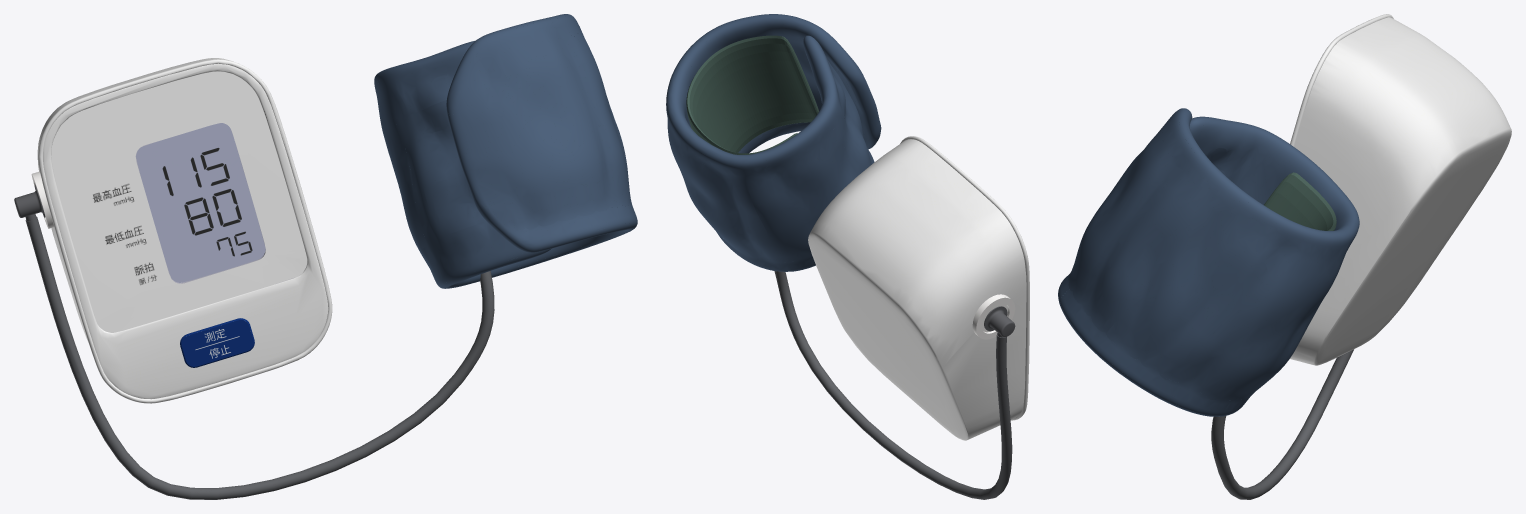
Rendered from tensiometre-draco.glb.
The picture shows the model from 3 angles, left to right: view 1: azimuth 30°, elevation 25°; view 2: azimuth 150°, elevation 25°; view 3: azimuth 270°, elevation 25°; orthographic projection. The views are drawn at different scales.
Visible parts, largest first — view 1: Object_13, Object_27, Object_4, Object_14, Object_6, Object_21, Object_8, Object_29, Object_25; view 2: Object_4, Object_13, Object_16, Object_21, Object_14, Object_8, Object_10, Object_19; view 3: Object_13, Object_4, Object_14, Object_21, Object_16, Object_8.
Part boxes in pixels (<box>): Object_13: <box>374,14,637,288</box>; Object_27: <box>51,71,307,332</box>; Object_4: <box>37,58,328,399</box>; Object_14: <box>374,15,637,286</box>; Object_6: <box>136,123,265,282</box>; Object_21: <box>25,216,494,499</box>; Object_8: <box>38,59,332,403</box>; Object_29: <box>181,320,253,366</box>; Object_25: <box>162,148,252,256</box>; Object_4: <box>808,139,1026,440</box>; Object_13: <box>666,14,881,271</box>; Object_16: <box>686,35,818,165</box>; Object_21: <box>774,271,1012,499</box>; Object_14: <box>674,14,874,271</box>; Object_8: <box>900,136,1029,420</box>; Object_10: <box>972,294,1015,339</box>; Object_19: <box>984,306,1015,337</box>; Object_13: <box>1058,108,1359,416</box>; Object_4: <box>1290,17,1511,365</box>; Object_14: <box>1059,113,1357,416</box>; Object_21: <box>1211,349,1353,499</box>; Object_16: <box>1264,172,1336,230</box>; Object_8: <box>1290,14,1393,146</box>.
Size of the model in its own units: 1.37 by 1.22 by 1.08.
Materials: 7 (7 with a texture image).
